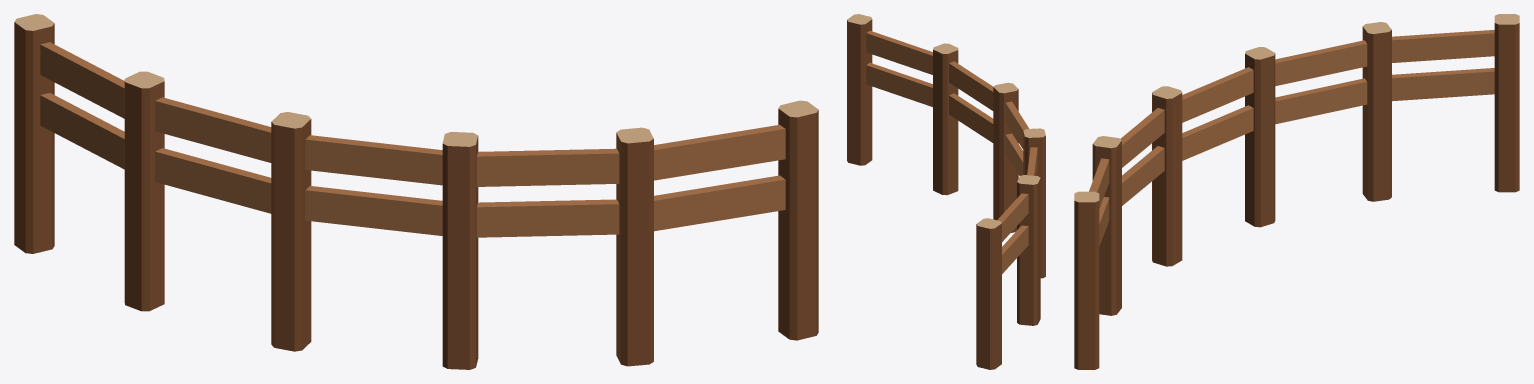
File: Prop_Decorative_Fence_Curve_3x3.obj
3 views of the same model, side by side, from view 1: azimuth 30°, elevation 25°; view 2: azimuth 150°, elevation 25°; view 3: azimuth 270°, elevation 25° (orthographic). The views are drawn at different scales.
Parts seen in each view (by area): view 1: Fence_Post_Side, Fence_Rail, Fence_Post_Top; view 2: Fence_Post_Side, Fence_Rail, Fence_Post_Top; view 3: Fence_Post_Side, Fence_Rail, Fence_Post_Top.
Boxes of the visible parts, x1,y1,x2,y2 form: Fence_Post_Side: [14, 22, 818, 369]; Fence_Rail: [40, 42, 785, 237]; Fence_Post_Top: [14, 14, 818, 146]; Fence_Post_Side: [847, 19, 1045, 369]; Fence_Rail: [866, 30, 1037, 273]; Fence_Post_Top: [847, 14, 1045, 228]; Fence_Post_Side: [1074, 23, 1519, 369]; Fence_Rail: [1089, 30, 1494, 246]; Fence_Post_Top: [1074, 14, 1519, 202].
Bounding box in the file's own units: 2.65 × 1.1 × 2.65.
